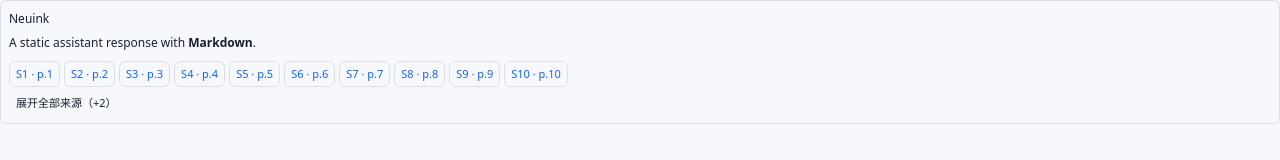
Test: ChatMessage performance boundaries › collapses source links beyond ten until the user expands them
Check: the button "S10 · p.10" is shown, box [504, 61, 568, 87]
Check: the button "S11 · p.11" is not shown
Click the button "展开全部来源（+2）" at (66, 103), box [9, 91, 124, 115]
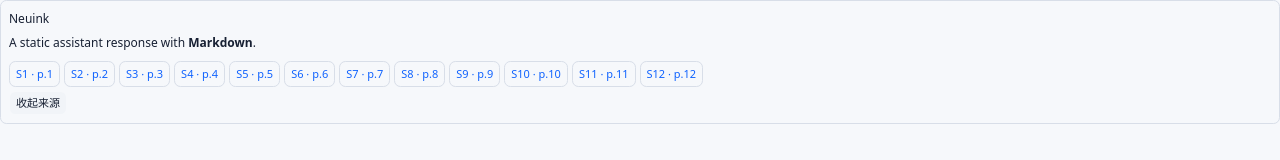
Check: the button "S11 · p.11" is shown, box [572, 61, 636, 87]
Check: the button "收起来源" is expanded, box [9, 91, 67, 115]
